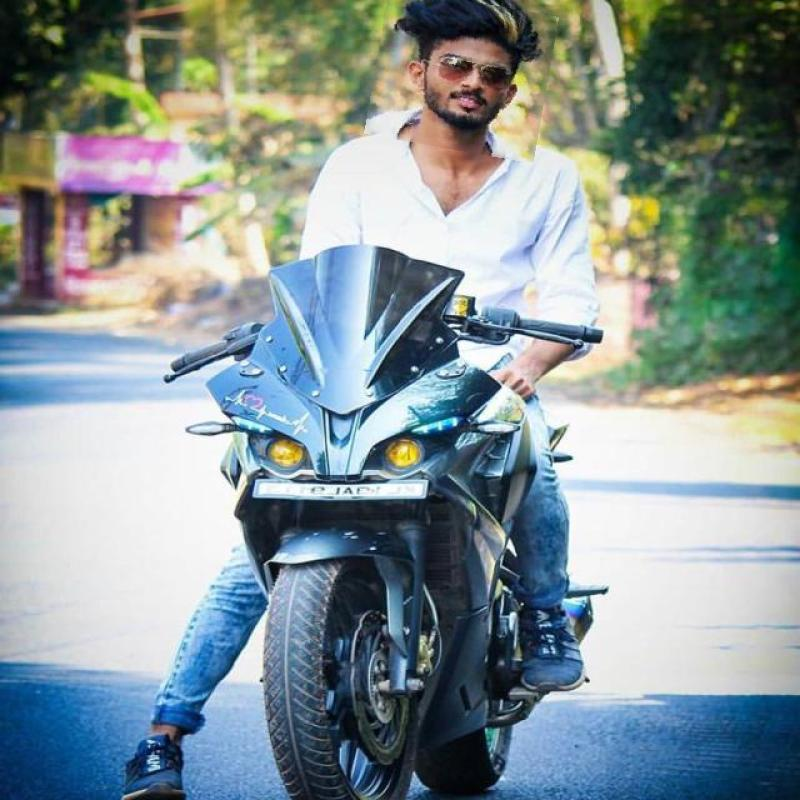nohelmet: (370, 0, 553, 155)
